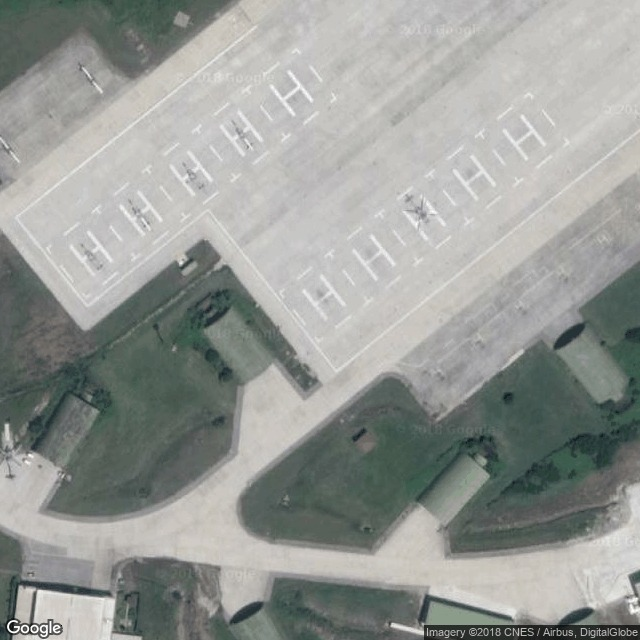heliport: (258, 67, 319, 121), (58, 227, 118, 281), (340, 233, 400, 284), (490, 115, 550, 165), (291, 271, 348, 323), (208, 109, 266, 159), (390, 197, 450, 245), (158, 149, 216, 197), (109, 192, 165, 238), (440, 158, 498, 202)
